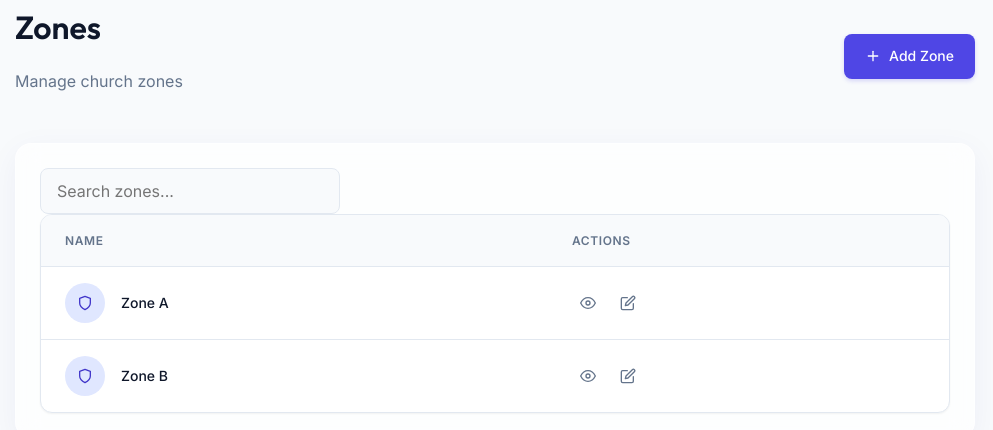
Test: ZonesList.vue › filters zones by search query with debounce
The image size is (993, 430).
# Trigger search
Type "Zone A" into the field with placeholder "Search zones..." at (190, 191), box [40,168,340,214]
Wait 300 ms
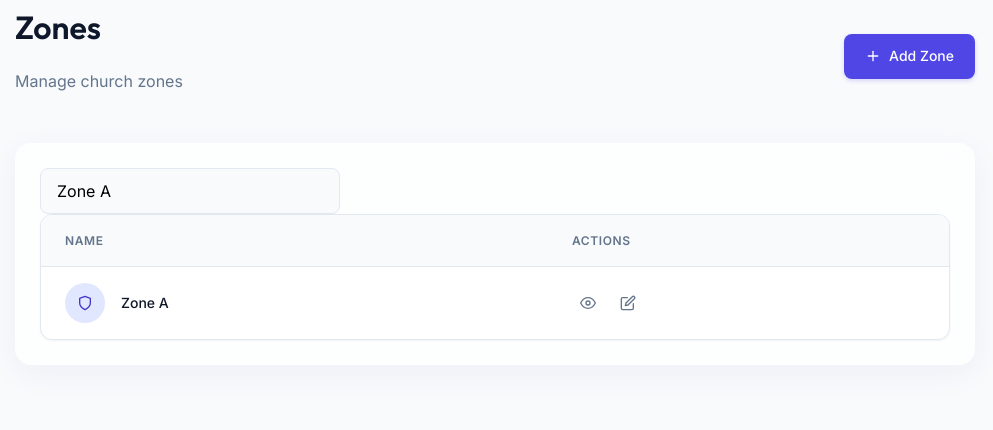
Expected: the text "Zone A" is shown, [121,292,169,314]
Expected: the text "Zone B" is gone
